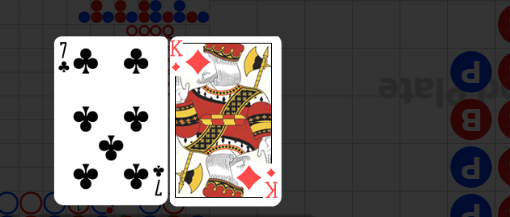7C: (56, 40, 71, 75)
KD: (265, 167, 280, 200)
